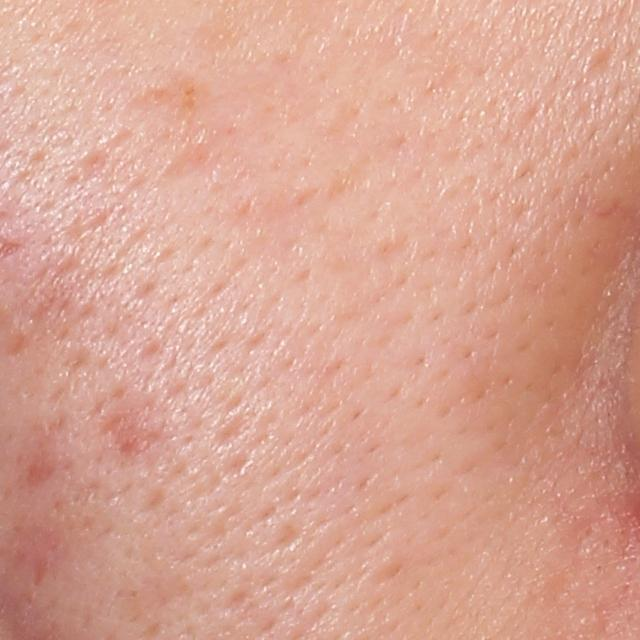atrophic_scar: (162, 142, 210, 181), (586, 48, 613, 75)
